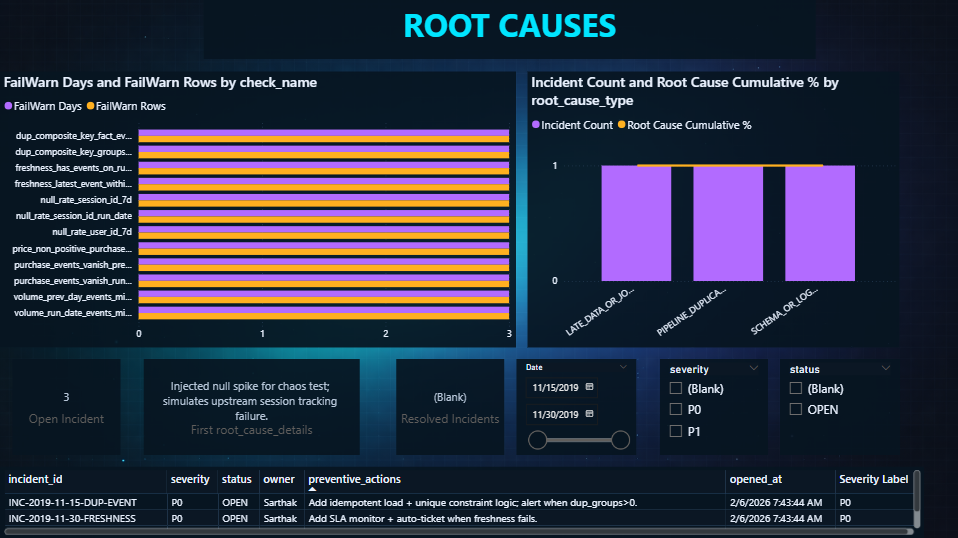

This screenshot's page, from the dashboard's own definition file:
{"tool":"powerbi","page":{"name":"Page 4","canvas":[1280,720],"ordinal":3},"visuals":[{"type":"lineClusteredColumnComboChart","fields":{"Category":["incidents.root_cause_type"],"Y":["incidents.Incident Count"],"Y2":["incidents.Root Cause Cumulative %"]},"box":[704,96,496,368],"z":0},{"type":"clusteredBarChart","fields":{"Y":["incidents.FailWarn Days","incidents.FailWarn Rows"],"Category":["check_results_with_incidents (2).check_name"]},"box":[0,96,688,368],"z":1000},{"type":"tableEx","fields":{"Values":["incidents.incident_id","incidents.severity","incidents.status","incidents.owner","incidents.preventive_actions","incidents.opened_at","incidents.Severity Label"]},"box":[0,624,1232,96],"z":2000},{"type":"card","fields":{"Values":["incidents.Open Incident"]},"box":[16,480,144,128],"z":3000},{"type":"card","fields":{"Values":["incidents.Resolved Incidents"]},"box":[528,480,144,128],"z":6000},{"type":"slicer","fields":{"Values":["DimDate3.Date"]},"box":[688,480,160,128],"z":7000},{"type":"slicer","fields":{"Values":["incidents.severity"]},"box":[880,480,144,128],"z":8000},{"type":"slicer","fields":{"Values":["incidents.status"]},"box":[1040,480,160,128],"z":9000},{"type":"textbox","box":[272,16,816,64],"z":9001},{"type":"card","fields":{"Values":["Min(incidents.root_cause_details)"]},"box":[192,480,288,128],"z":9002}]}

Visuals, with their boxes in screenshot pixels (x1, y1, x2, y2), scaled from the page's 1280x720 canvas onto the 958x538 screenshot:
lineClusteredColumnComboChart - incidents.root_cause_type x incidents.Incident Count: {"left": 527, "top": 72, "right": 898, "bottom": 347}
clusteredBarChart - incidents.FailWarn Days x incidents.FailWarn Rows: {"left": 0, "top": 72, "right": 515, "bottom": 347}
tableEx - incidents.incident_id x incidents.severity: {"left": 0, "top": 466, "right": 922, "bottom": 537}
card - incidents.Open Incident: {"left": 12, "top": 359, "right": 120, "bottom": 454}
card - incidents.Resolved Incidents: {"left": 395, "top": 359, "right": 503, "bottom": 454}
slicer - DimDate3.Date: {"left": 515, "top": 359, "right": 635, "bottom": 454}
slicer - incidents.severity: {"left": 659, "top": 359, "right": 766, "bottom": 454}
slicer - incidents.status: {"left": 778, "top": 359, "right": 898, "bottom": 454}
textbox: {"left": 204, "top": 12, "right": 814, "bottom": 60}
card - Min(incidents.root_cause_details): {"left": 144, "top": 359, "right": 359, "bottom": 454}
